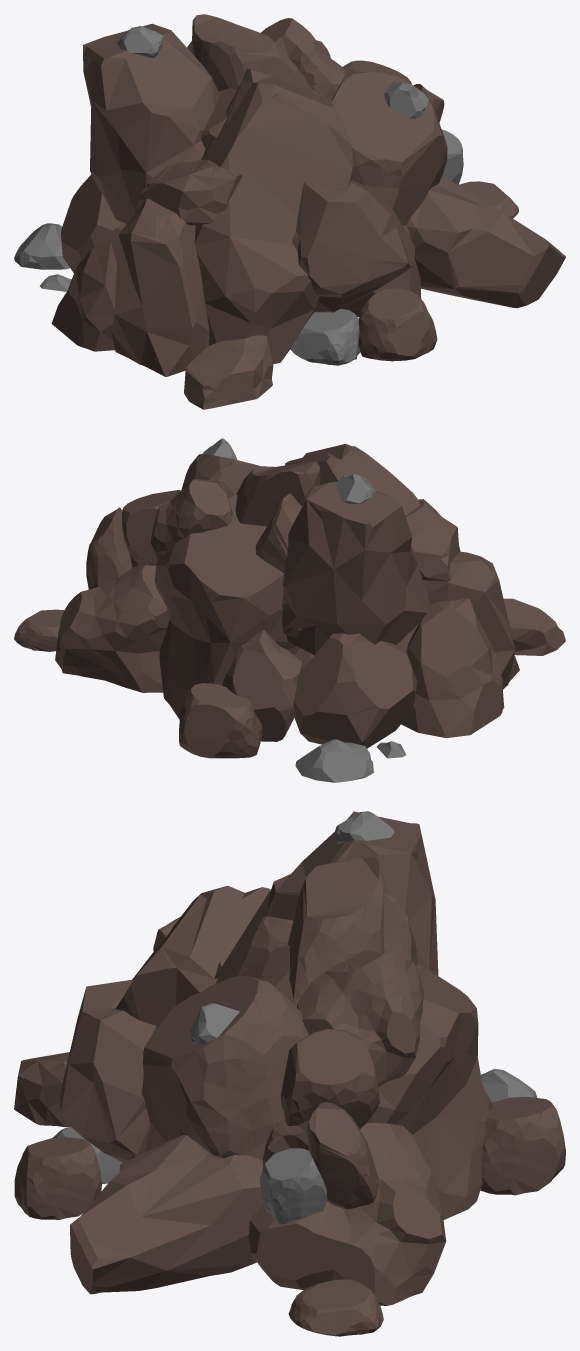
File: Stone blockage.fbx
3 renders of one model, top to bottom at view 1: azimuth 30°, elevation 25°; view 2: azimuth 150°, elevation 25°; view 3: azimuth 270°, elevation 25°, orthographic. The views are drawn at different scales.
Visible parts, largest first — view 1: Stone blockage; view 2: Stone blockage; view 3: Stone blockage.
Boxes of the visible parts, bbox=[...] form: Stone blockage: bbox=[14, 14, 565, 409]; Stone blockage: bbox=[14, 438, 565, 782]; Stone blockage: bbox=[14, 811, 565, 1336].
Size of the model in its own units: 804 by 428 by 682.
